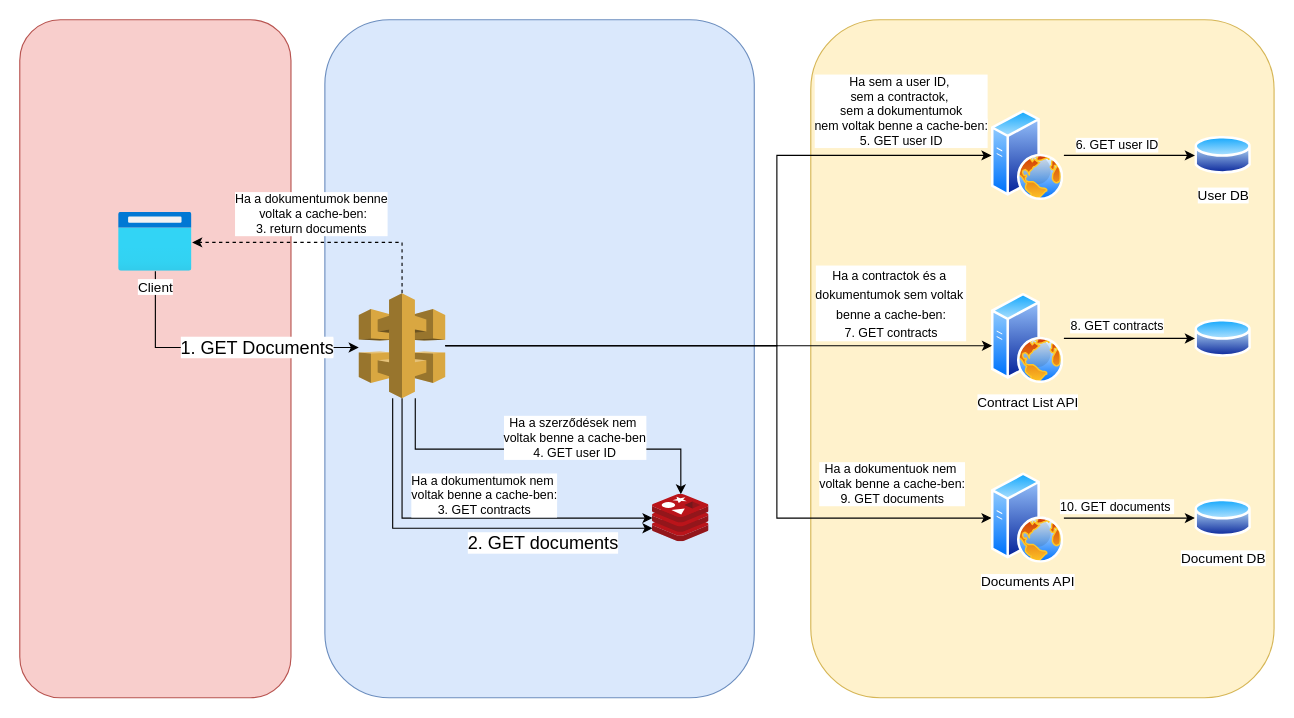
This 1294x718 diagram has some shape labels left out. Here are the shapes that lost their labels. From the top down, the centre of each, then its label:
At (1027,155): "User API".
At (401,345): "Contract Viewer API".
At (1222,338): "Contract DB".
